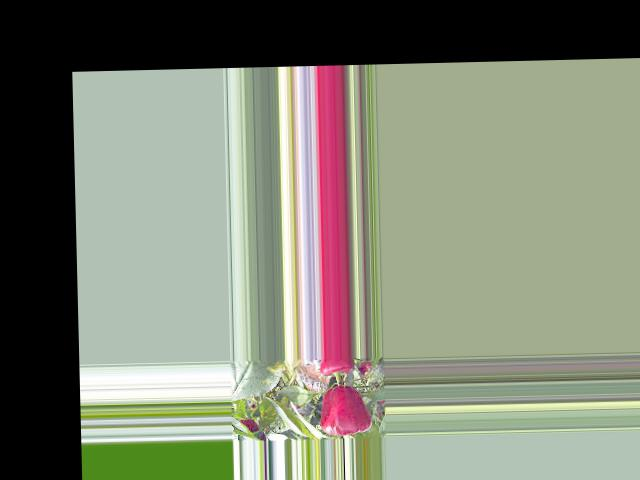bell_pepper: (316, 357, 356, 379)
